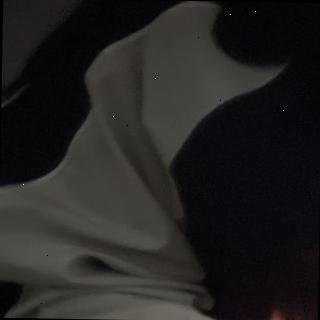fire: (266, 311, 290, 320)
